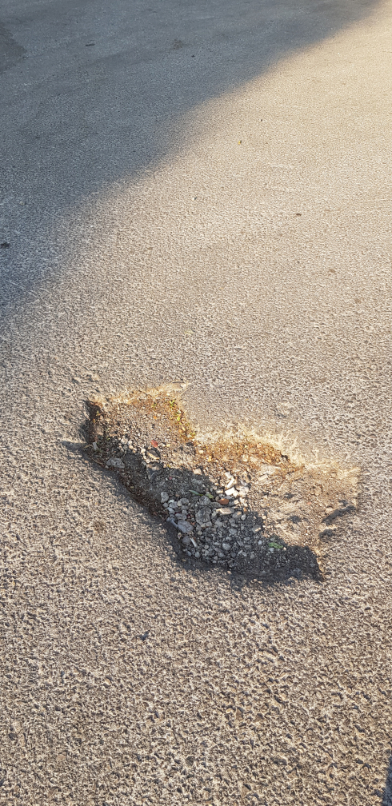pothole: (68, 383, 368, 592)
